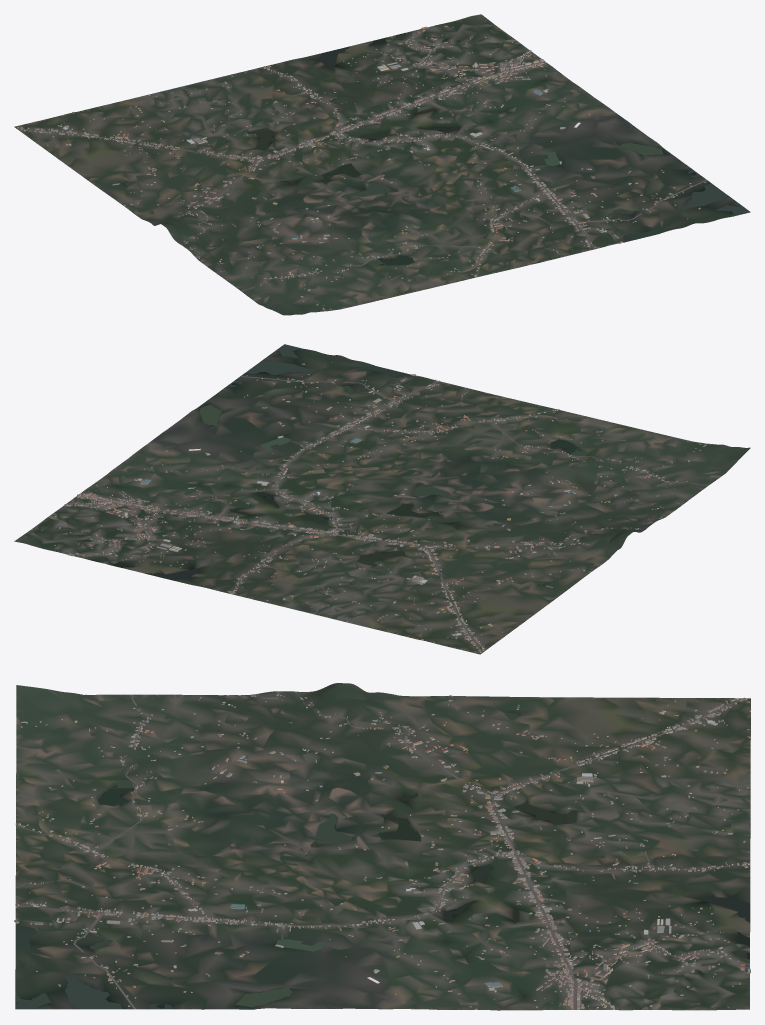
The picture shows the model from 3 angles, top to bottom: view 1: azimuth 30°, elevation 25°; view 2: azimuth 150°, elevation 25°; view 3: azimuth 270°, elevation 25°; orthographic projection. The views are drawn at different scales.
Parts seen in each view (by area): view 1: ground, buildings, water, roads; view 2: ground, buildings, water, roads; view 3: ground, buildings, water, roads.
Boxes of the visible parts, x1,y1,x2,y2 form: ground: (14,14,750,315); buildings: (17,25,706,309); water: (53,20,749,267); roads: (16,35,707,291); ground: (14,345,750,654); buildings: (54,362,706,652); water: (24,344,639,627); roads: (68,376,708,652); ground: (15,683,750,1010); buildings: (14,693,750,1009); water: (15,700,749,1009); roads: (15,694,750,1009).
Size of the model in its own units: 5607 by 152 by 5626.
